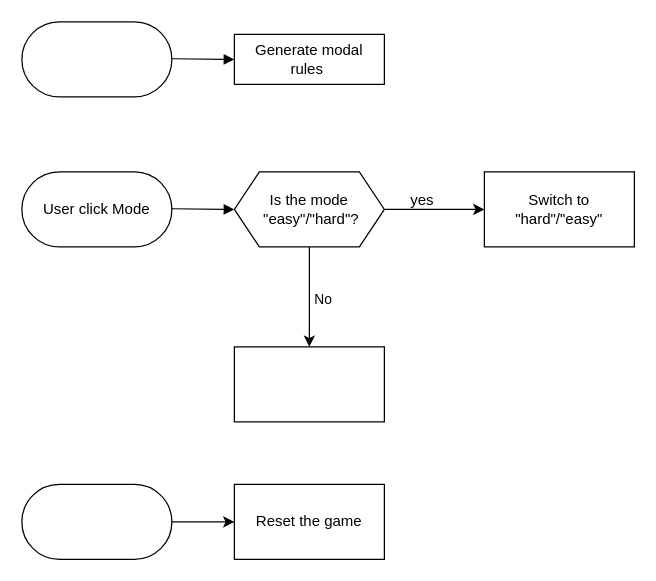
Image size: 656x581. Some labels were removed from this diagram. Here are the shapes that lost their labels. From the top down, the box of each, then its label:
(21, 21, 172, 97): User click Rules
(233, 346, 384, 422): Set to "easy" mode
(21, 483, 172, 559): User click Reset
